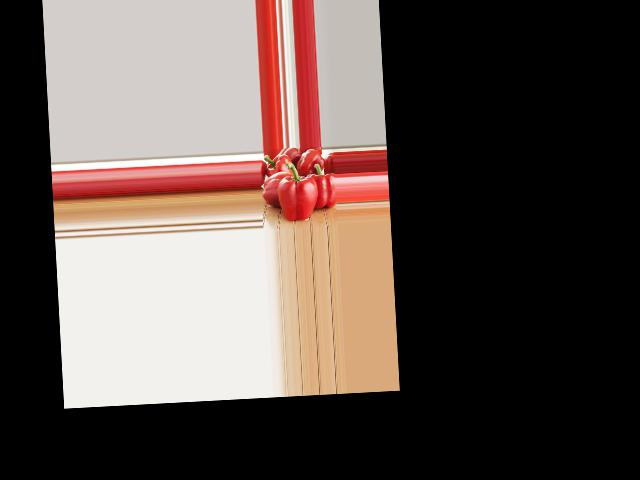bell_pepper: (262, 153, 292, 178)
